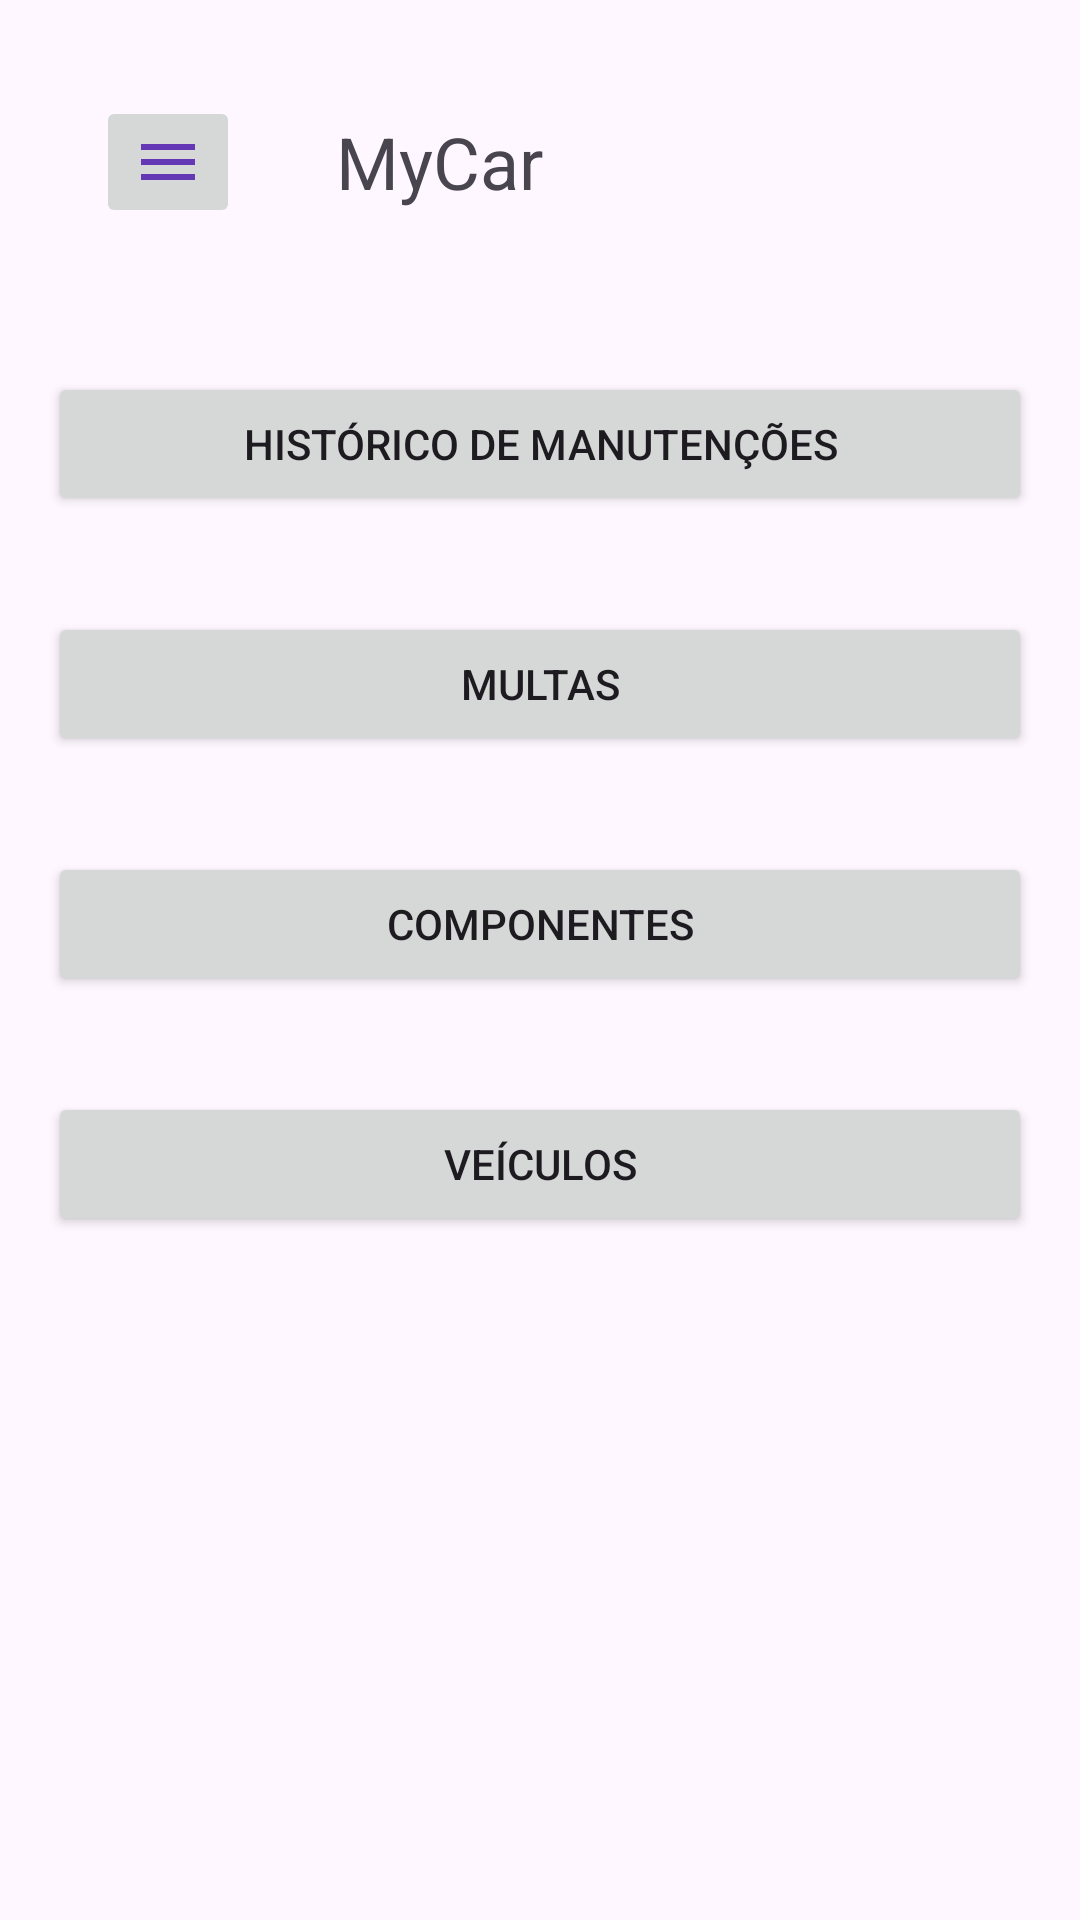

Icon bounding boxes for this 1080 x 1920 phone screenshot, format (x1, y1, x2, y2):
menu: (108, 114, 228, 210)
